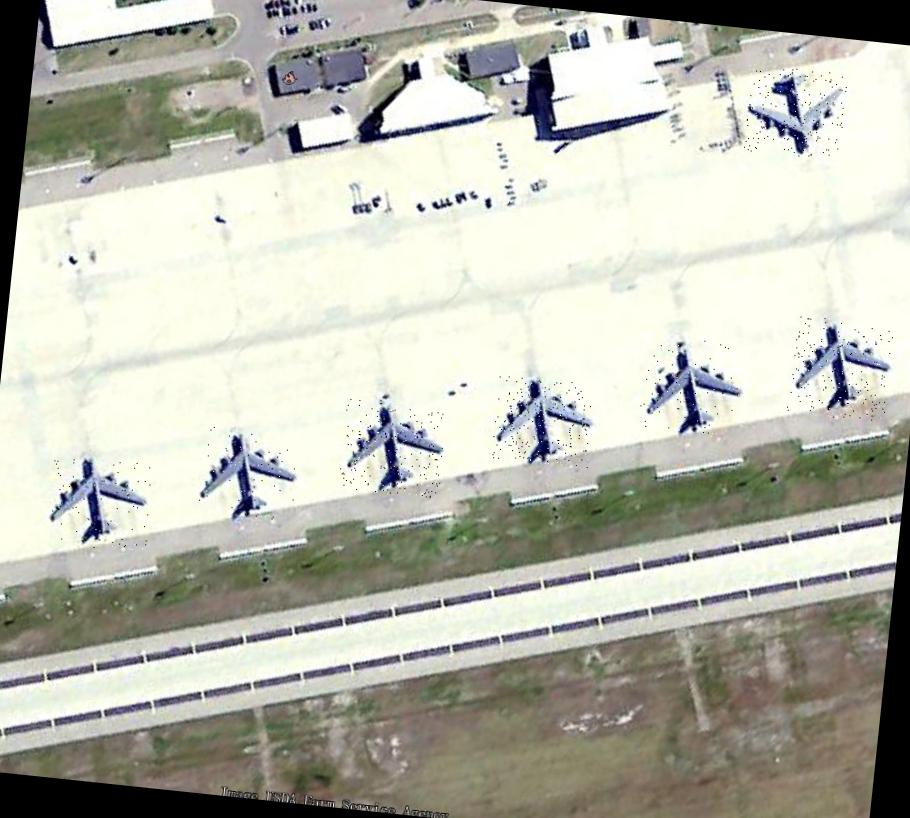A8: (786, 315, 894, 423), (636, 334, 745, 439), (338, 396, 448, 499), (46, 451, 155, 554), (193, 424, 300, 526), (740, 64, 848, 161), (491, 374, 596, 470)
